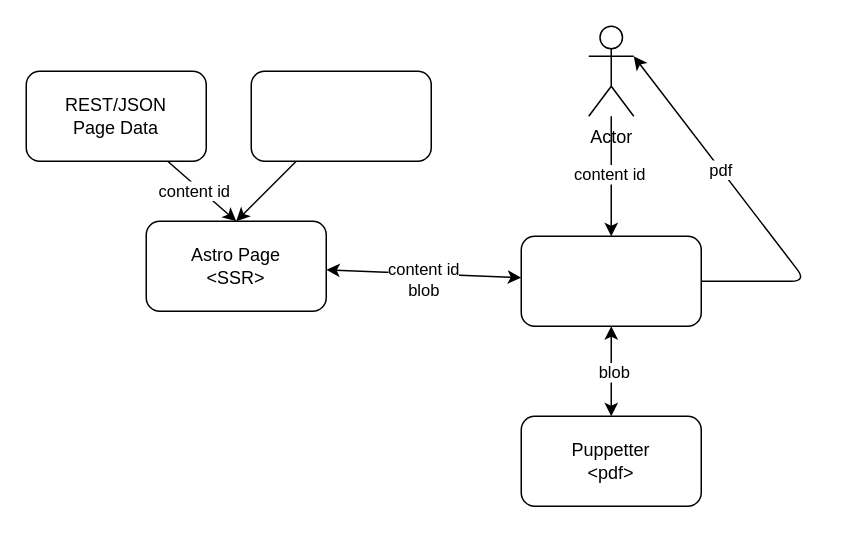
Image size: 845x533. Some labels were removed from this diagram. Here are the shapes that lost their labels. From the top down, the centre of each, then its label:
(x=340, y=115): Assets Static files
(x=610, y=280): HTTP <GET: contentId>
